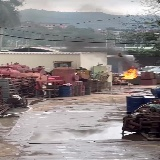fire: (121, 69, 137, 79)
